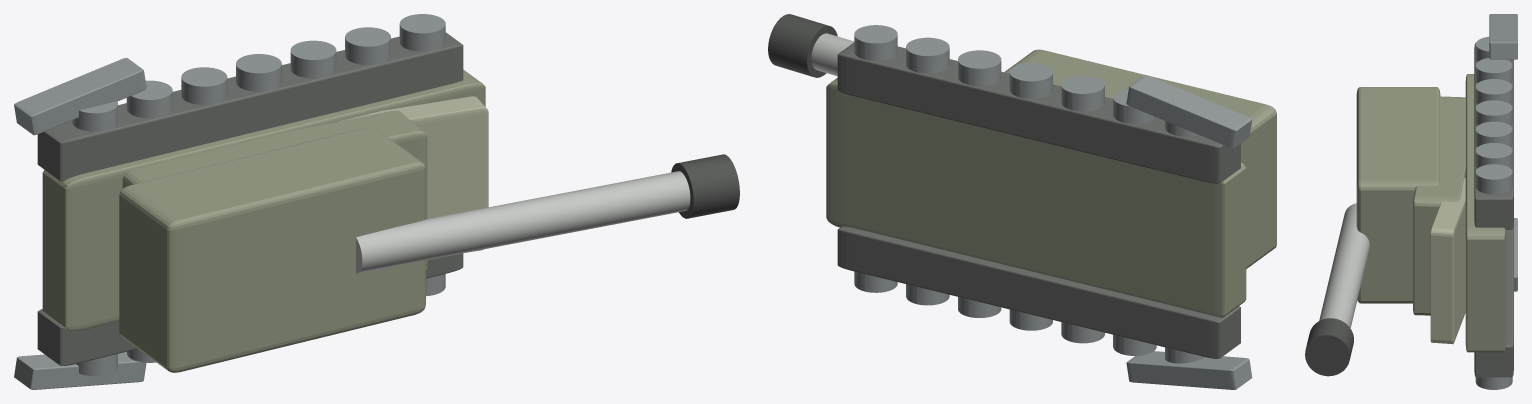
File: v-u16-vanguard-self-propelled-howitzer-lod1.glb
The picture shows the model from 3 angles, left to right: view 1: azimuth 30°, elevation 25°; view 2: azimuth 150°, elevation 25°; view 3: azimuth 270°, elevation 25°; orthographic projection. The views are drawn at different scales.
Parts seen in each view (by area): view 1: howitzer_casemate, chassis_track_1, chassis_lower, howitzer_barrel_0, chassis_glacis, upper_hull, stabilizer_1, chassis_track_-1, howitzer_muzzle_0, stabilizer_-1, chassis_roadwheel_1_4, chassis_roadwheel_1_6 (+6 smaller); view 2: chassis_lower, chassis_track_1, chassis_track_-1, howitzer_casemate, stabilizer_1, stabilizer_-1, howitzer_muzzle_0, chassis_roadwheel_1_2, chassis_roadwheel_1_5, chassis_roadwheel_1_6, chassis_roadwheel_1_4, chassis_roadwheel_1_3 (+8 smaller); view 3: howitzer_casemate, chassis_lower, upper_hull, chassis_glacis, howitzer_barrel_0, howitzer_muzzle_0, chassis_track_-1, chassis_track_1, stabilizer_1, chassis_roadwheel_1_6, chassis_roadwheel_1_2, chassis_roadwheel_1_5 (+6 smaller).
Part boxes in pixels (bbox=[...]): howitzer_casemate: bbox=[119, 127, 425, 372]; chassis_track_1: bbox=[37, 32, 463, 181]; chassis_lower: bbox=[42, 69, 485, 331]; howitzer_barrel_0: bbox=[356, 171, 690, 273]; chassis_glacis: bbox=[338, 96, 488, 252]; upper_hull: bbox=[122, 110, 427, 271]; stabilizer_1: bbox=[14, 57, 146, 135]; chassis_track_-1: bbox=[37, 253, 463, 365]; howitzer_muzzle_0: bbox=[671, 154, 739, 218]; stabilizer_-1: bbox=[14, 351, 146, 389]; chassis_roadwheel_1_4: bbox=[290, 40, 336, 78]; chassis_roadwheel_1_6: bbox=[399, 14, 445, 51]; chassis_lower: bbox=[826, 78, 1246, 317]; chassis_track_1: bbox=[837, 42, 1240, 183]; chassis_track_-1: bbox=[837, 226, 1240, 358]; howitzer_casemate: bbox=[1004, 49, 1276, 268]; stabilizer_1: bbox=[1126, 75, 1252, 148]; stabilizer_-1: bbox=[1126, 351, 1252, 389]; howitzer_muzzle_0: bbox=[768, 14, 837, 77]; chassis_roadwheel_1_2: bbox=[1061, 75, 1104, 111]; chassis_roadwheel_1_5: bbox=[906, 37, 949, 73]; chassis_roadwheel_1_6: bbox=[854, 25, 897, 60]; chassis_roadwheel_1_4: bbox=[958, 50, 1001, 86]; chassis_roadwheel_1_3: bbox=[1009, 63, 1052, 98]; howitzer_casemate: bbox=[1356, 87, 1440, 303]; chassis_lower: bbox=[1465, 74, 1505, 352]; upper_hull: bbox=[1413, 96, 1465, 315]; chassis_glacis: bbox=[1430, 178, 1465, 344]; howitzer_barrel_0: bbox=[1319, 203, 1369, 327]; howitzer_muzzle_0: bbox=[1305, 318, 1353, 376]; chassis_track_-1: bbox=[1474, 223, 1513, 377]; chassis_track_1: bbox=[1474, 43, 1513, 229]; stabilizer_1: bbox=[1489, 14, 1517, 59]; chassis_roadwheel_1_6: bbox=[1475, 164, 1512, 194]; chassis_roadwheel_1_2: bbox=[1475, 79, 1512, 104]; chassis_roadwheel_1_5: bbox=[1475, 143, 1512, 168].
Size of what is drawn, in the model's own units: 9.83 by 4.89 by 3.79.
